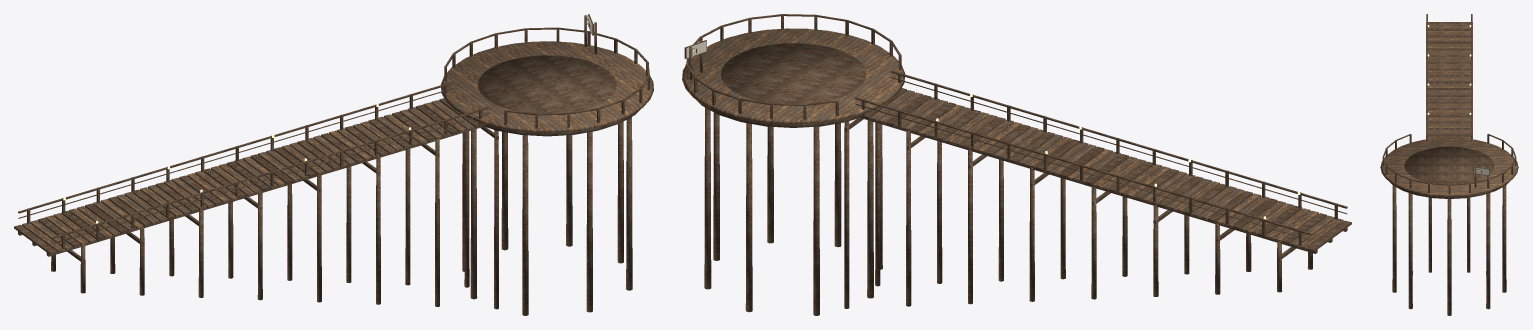
Rendered from cau_go_bridge.glb.
The picture shows the model from 3 angles, left to right: view 1: azimuth 30°, elevation 25°; view 2: azimuth 150°, elevation 25°; view 3: azimuth 270°, elevation 25°; orthographic projection. The views are drawn at different scales.
Visible parts, largest first — view 1: CauGoSanMay; view 2: CauGoSanMay; view 3: CauGoSanMay.
Part boxes in pixels (bbox=[...]): CauGoSanMay: bbox=[14, 14, 653, 315]; CauGoSanMay: bbox=[682, 14, 1351, 315]; CauGoSanMay: bbox=[1380, 14, 1518, 315].
Size of the model in its own units: 46.31 by 16.53 by 14.1.
Materials: 9 (6 with a texture image).
